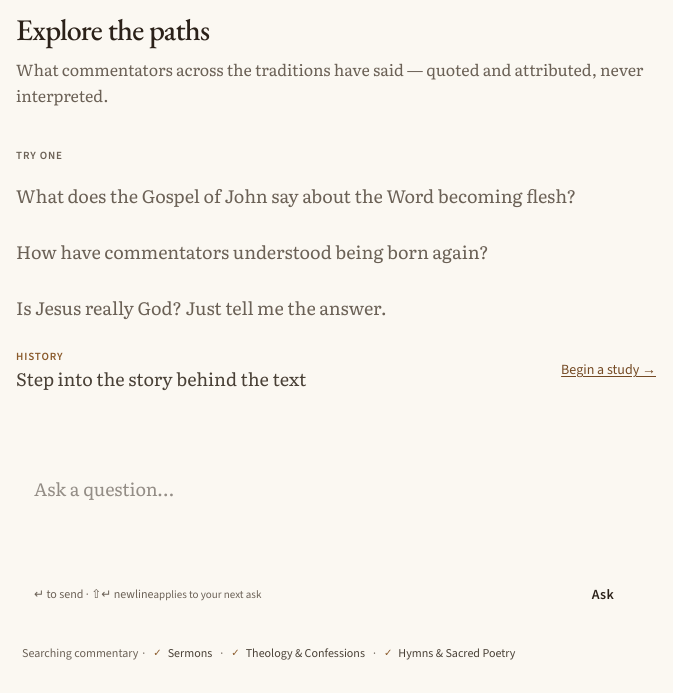
the running state is unmistakable › takes all three away when the stream terminates
This screenshot has width=673, height=693.
Step 1. Type "What is grace?" into the text box with placeholder "Ask a question…" → [336, 517], box [28,472,644,562]
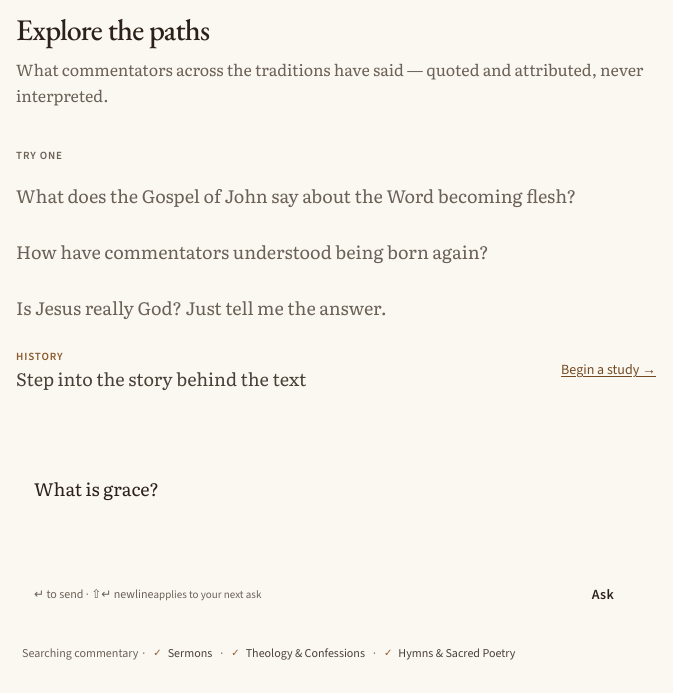
Step 2. Submit the form with placeholder "Ask a question", box [16,460,656,677]
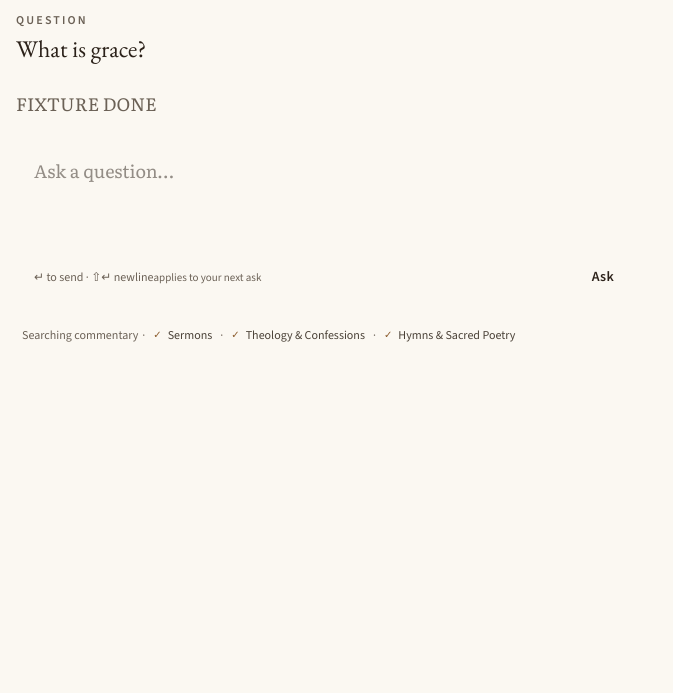
Expected: the button "Ask" is shown, [568,255,638,299]
Expected: the text "FIXTURE DONE" is shown, [16,90,157,117]
